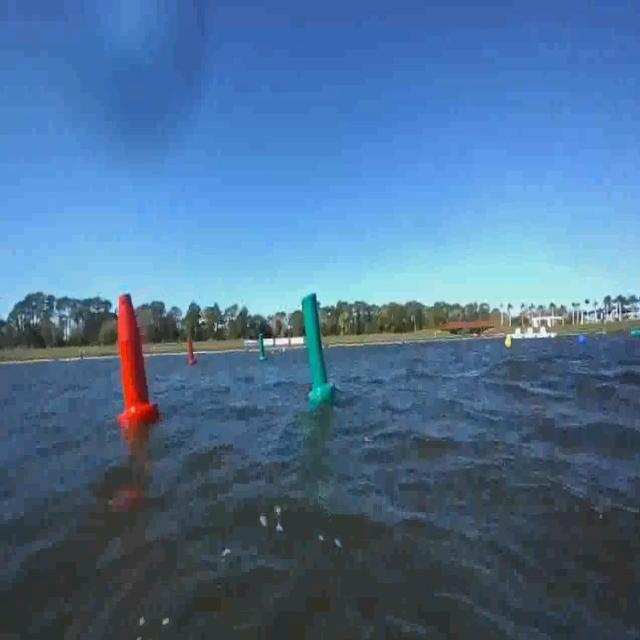green-column-buoy: (300, 290, 337, 401), (260, 336, 269, 362)
red-column-buoy: (117, 290, 158, 425)
